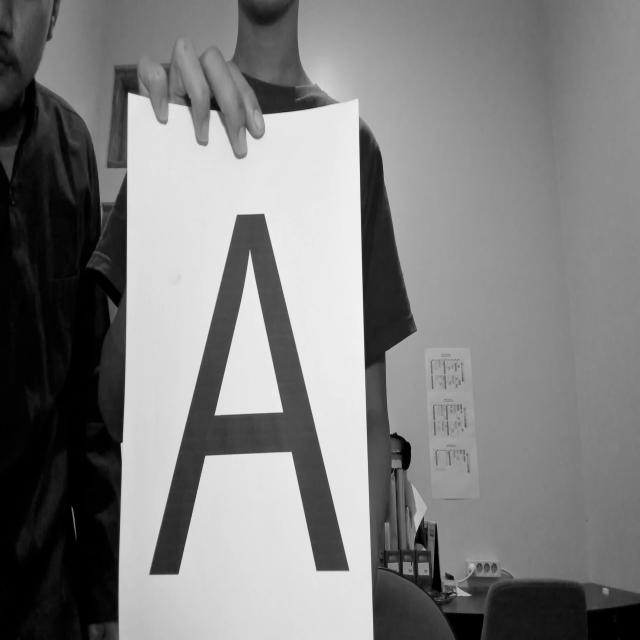a: (136, 188, 358, 604)
